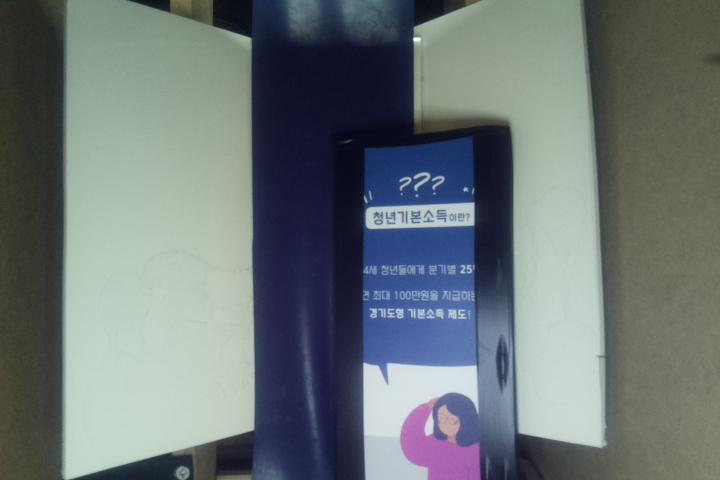book: (343, 123, 513, 480)
